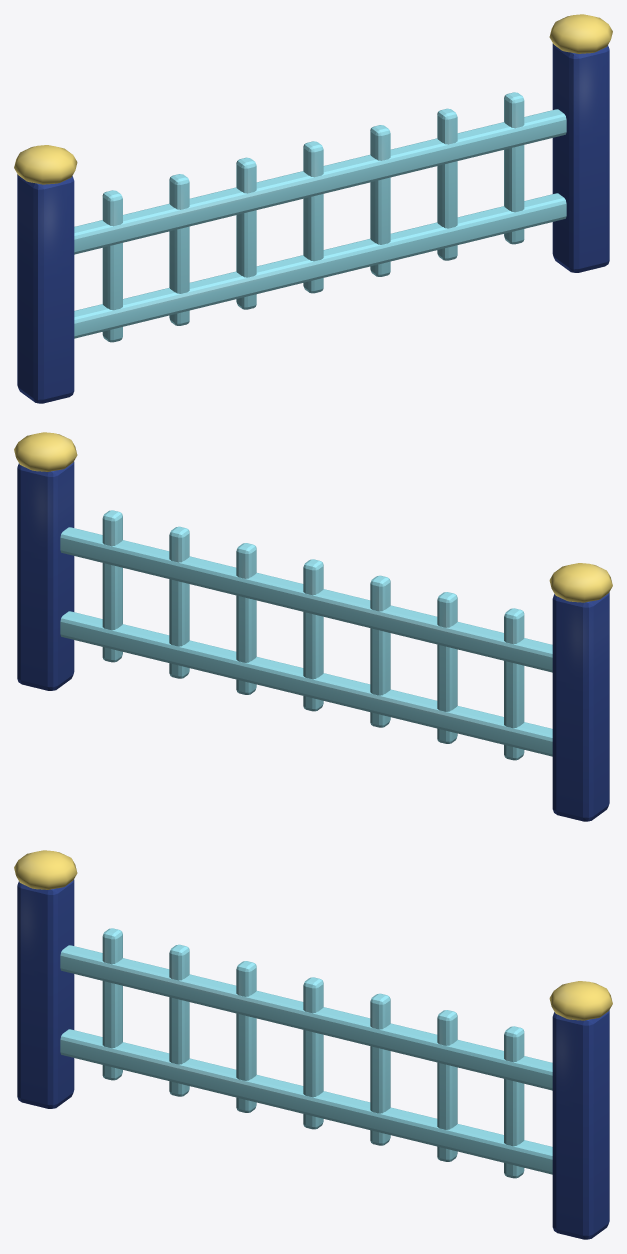
The model's file is PlotFenceSection.fbx.
The picture shows the model from 3 angles, top to bottom: view 1: azimuth 30°, elevation 25°; view 2: azimuth 150°, elevation 25°; view 3: azimuth 330°, elevation 25°; orthographic projection.
Parts seen in each view (by area): view 1: PlotFenceSection; view 2: PlotFenceSection; view 3: PlotFenceSection.
Boxes of the visible parts, <box> form: PlotFenceSection: <box>14,14,612,403</box>; PlotFenceSection: <box>14,432,612,821</box>; PlotFenceSection: <box>14,850,612,1239</box>.
Size of the model in its own units: 8.8 by 3.5 by 0.84.
Materials: 1 (1 with a texture image).
